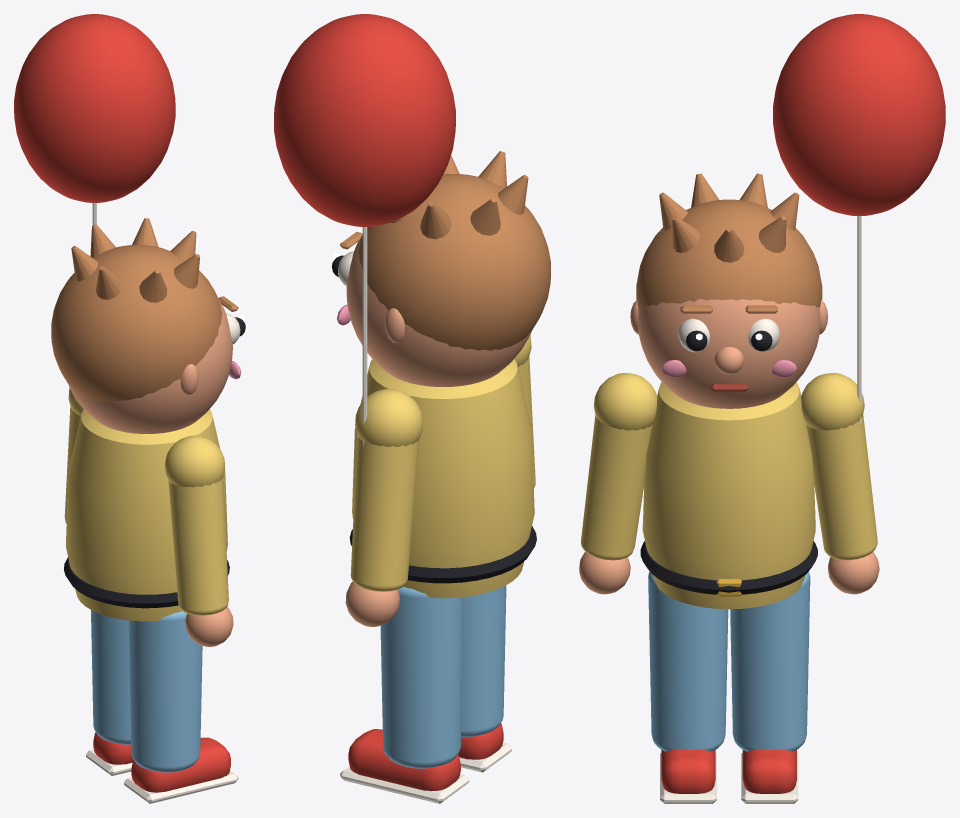
Rendered from ped_kid.glb.
3 renders of one model, left to right at view 1: azimuth 30°, elevation 25°; view 2: azimuth 150°, elevation 25°; view 3: azimuth 270°, elevation 25°, orthographic. The views are drawn at different scales.
Parts seen in each view (by area): view 1: ped_kid; view 2: ped_kid; view 3: ped_kid.
Part boxes in pixels (x1,y1,x2,y2): ped_kid: (14, 14, 245, 803); ped_kid: (274, 14, 550, 803); ped_kid: (579, 14, 945, 803).
Size of the model in its own units: 0.345 by 1.39 by 0.6086.
1 material, 1 textured.
